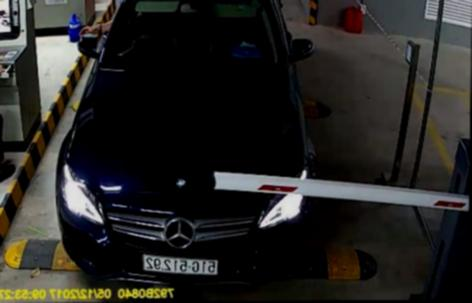License_Plate: (140, 248, 218, 278)
